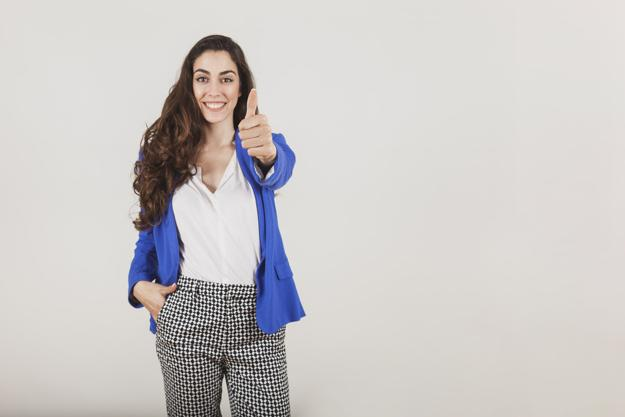thumbsup: (238, 88, 274, 157)
